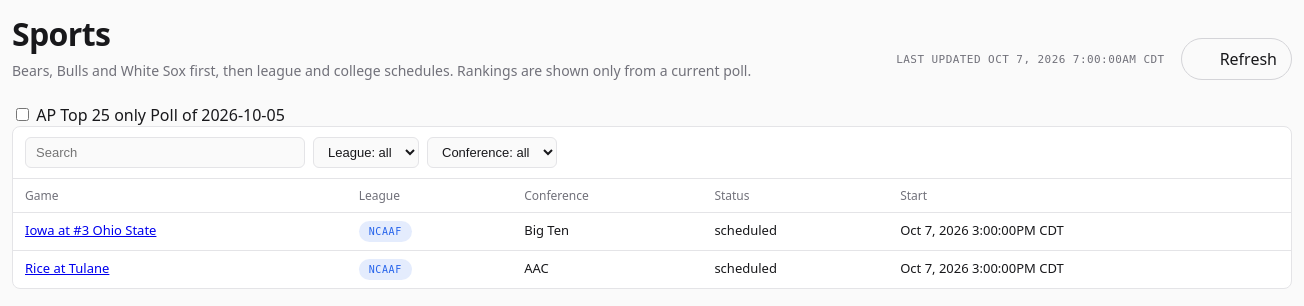
Test: Sports › filters to AP Top 25 games when the poll is current
Expected: the link "Rice at Tulane" is shown, x1=25 y1=259 x2=109 y2=277
Click the checkbox labelled "AP Top 25 only": (22,114) x1=16 y1=108 x2=29 y2=121
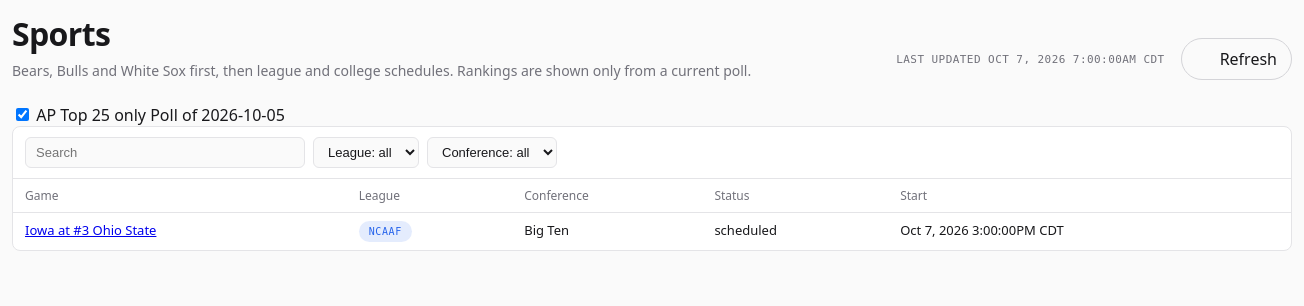
Expected: the link "Iowa at #3 Ohio State" is shown, x1=25 y1=221 x2=156 y2=239
Expected: the link "Rice at Tulane" is gone
